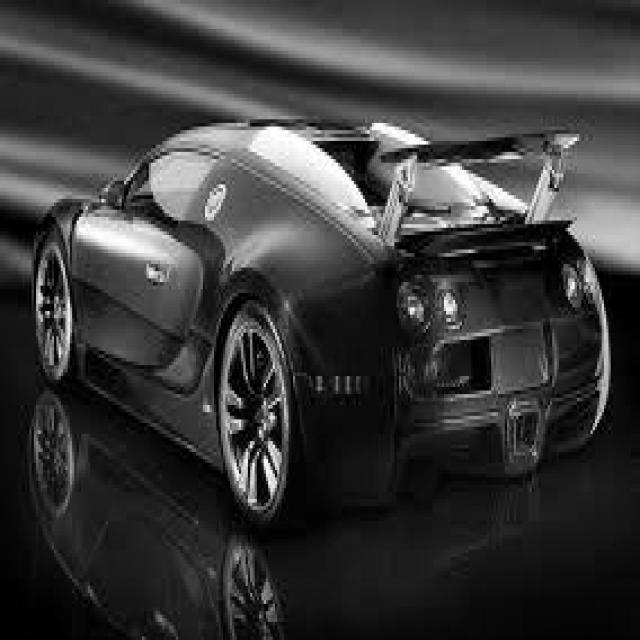car: (29, 116, 611, 532)
